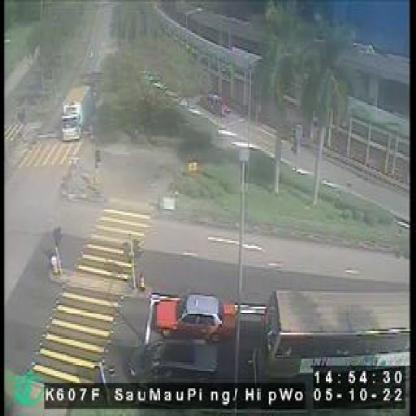Bus: (250, 290, 410, 383)
Car: (124, 340, 219, 381), (154, 294, 236, 340)
Truck: (61, 83, 90, 140)
